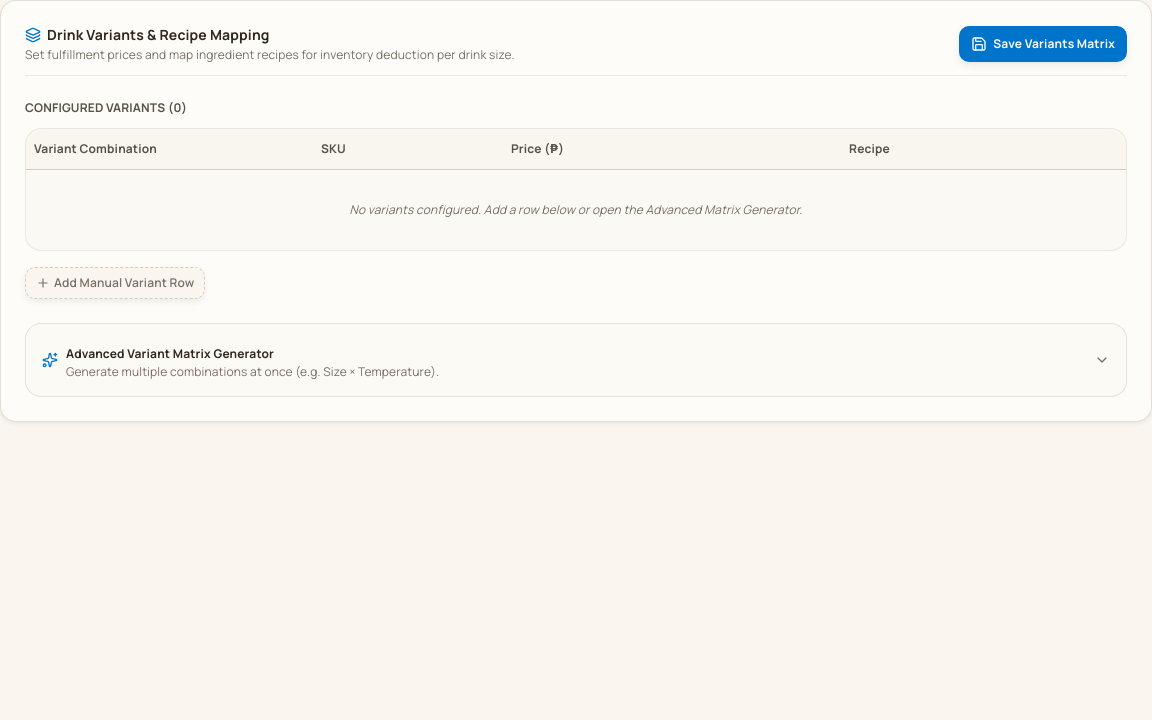
Test: EditVariantsTab - Advanced Variant Matrix Generator Price Validation › marks the price input as required with min="1" and step="1" and shows the required indicator
This screenshot has width=1152, height=720.
Click the text "Advanced Variant Matrix Generator" at (170, 353), box [66,344,274,362]
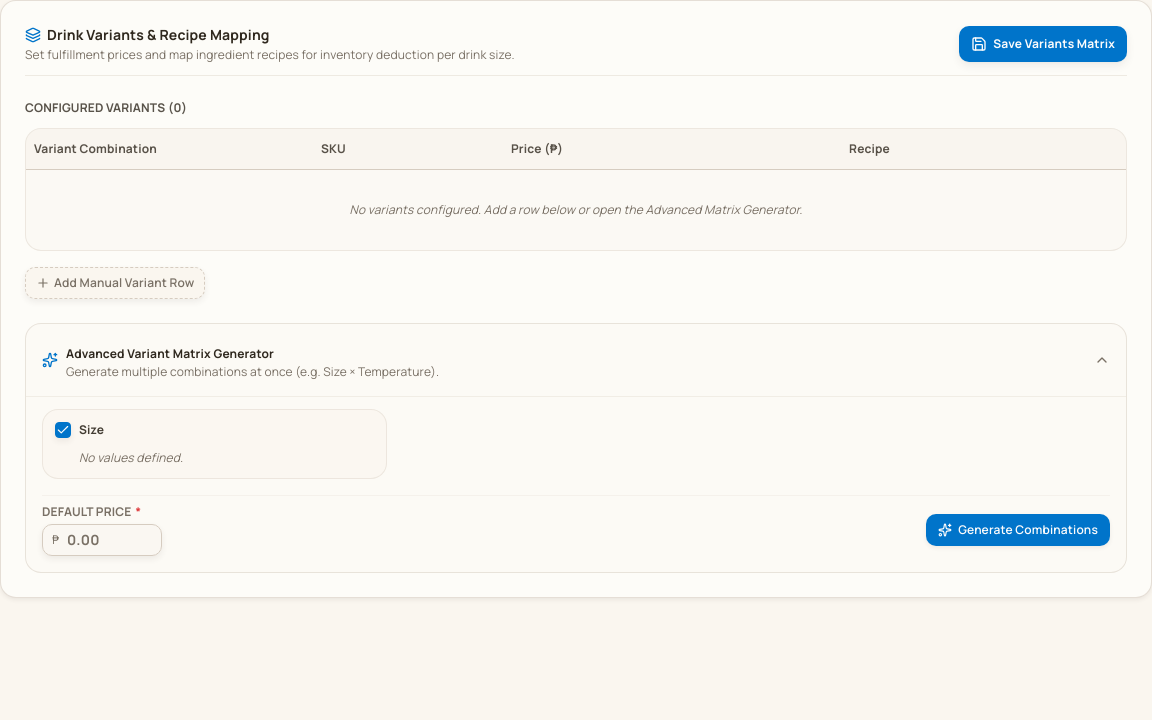
Result: the text "Default Price *" is shown at [42,502,141,520]
Result: the number field with placeholder "0.00" is shown at [42,524,162,556]
